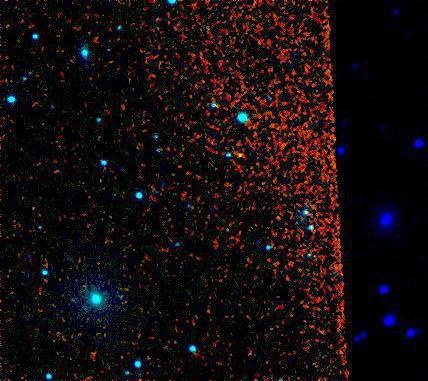star: (225, 141, 255, 171)
